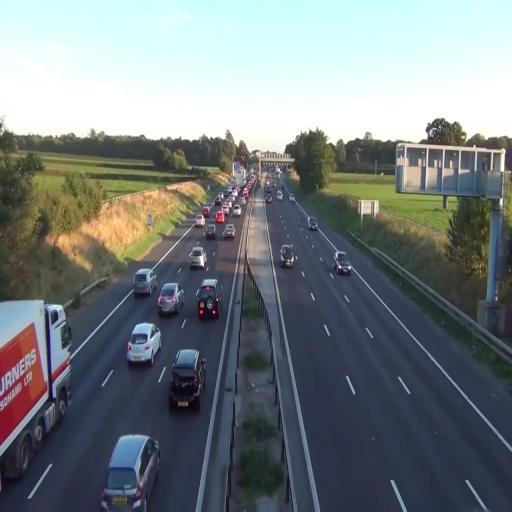vehicle: (0, 300, 73, 488), (101, 433, 160, 511), (169, 347, 205, 409), (126, 322, 162, 365), (196, 278, 221, 321), (157, 282, 184, 316), (133, 268, 155, 297), (334, 250, 352, 276), (189, 245, 207, 270), (279, 242, 295, 268), (335, 257, 352, 276), (223, 222, 236, 240), (232, 203, 242, 218), (308, 216, 318, 230)
